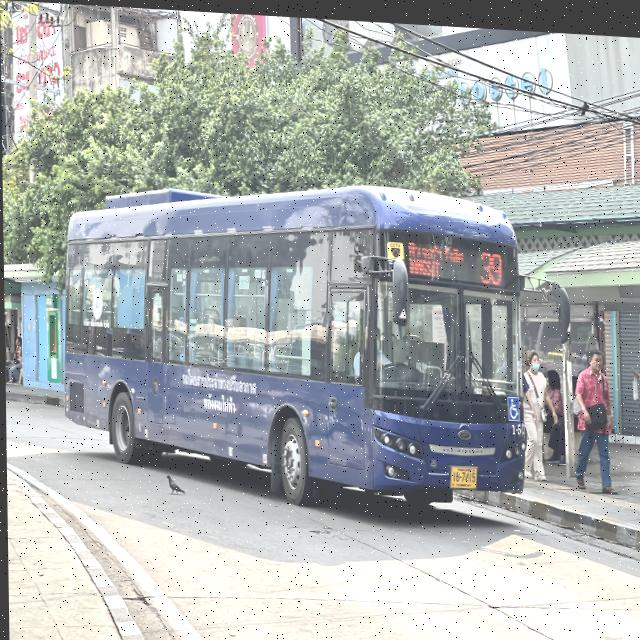Bus-Line-Number: (475, 242, 507, 284)
Destination-Sign-Normal: (404, 232, 466, 282)
TSB-Bus: (55, 162, 527, 510)
